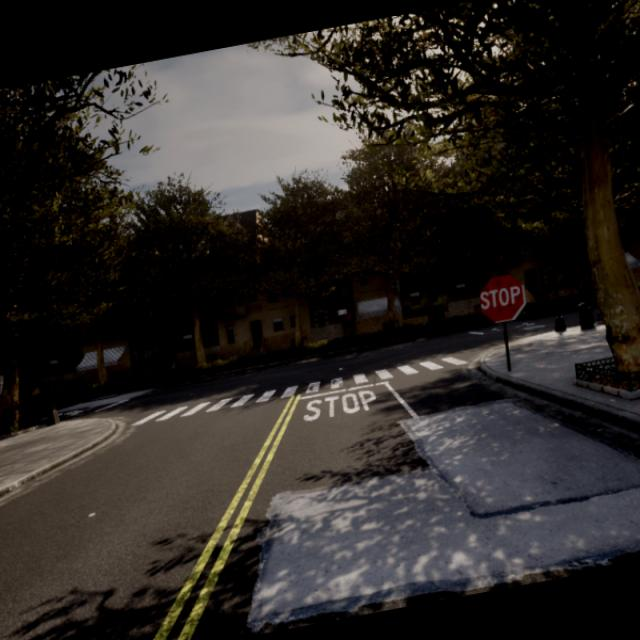stop sign: (477, 271, 527, 324), (479, 284, 522, 309)
